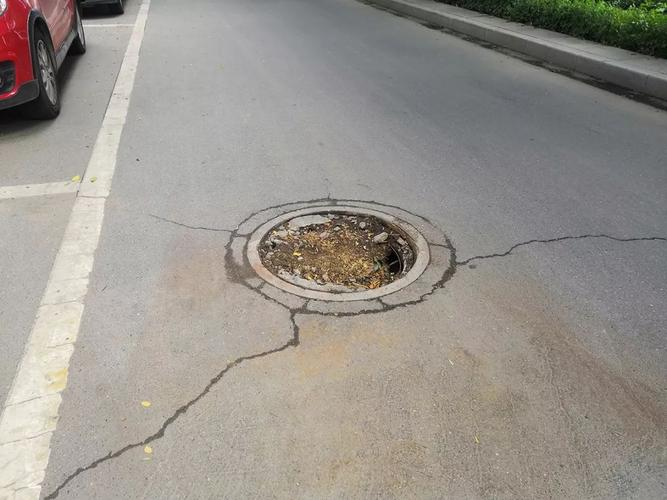broke: (220, 181, 469, 324)
